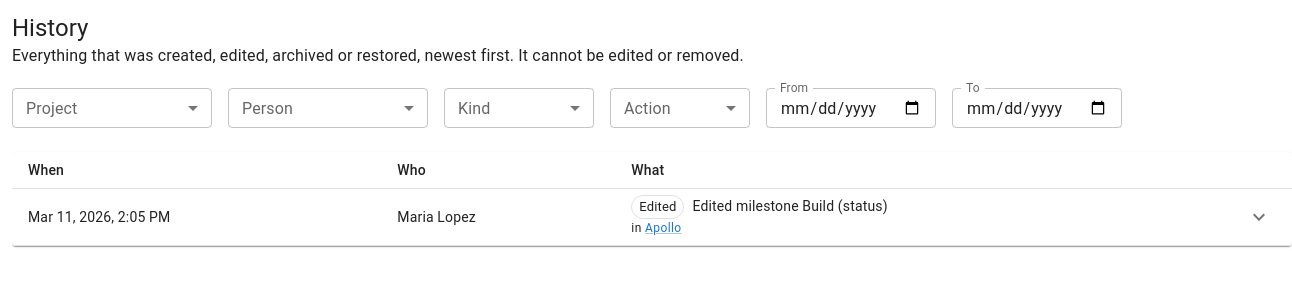
Test: HistoryPage › writes fixed words as words: In progress, not in_progress
Click the button named "Show details" at (1259, 217), box 1242,200 -> 1276,234
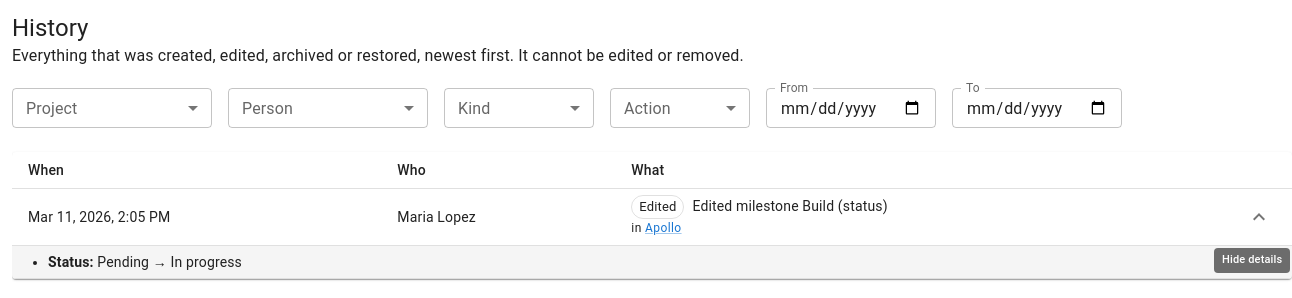
Expected: the text "Pending → In progress" is shown, 97,254 -> 242,270
